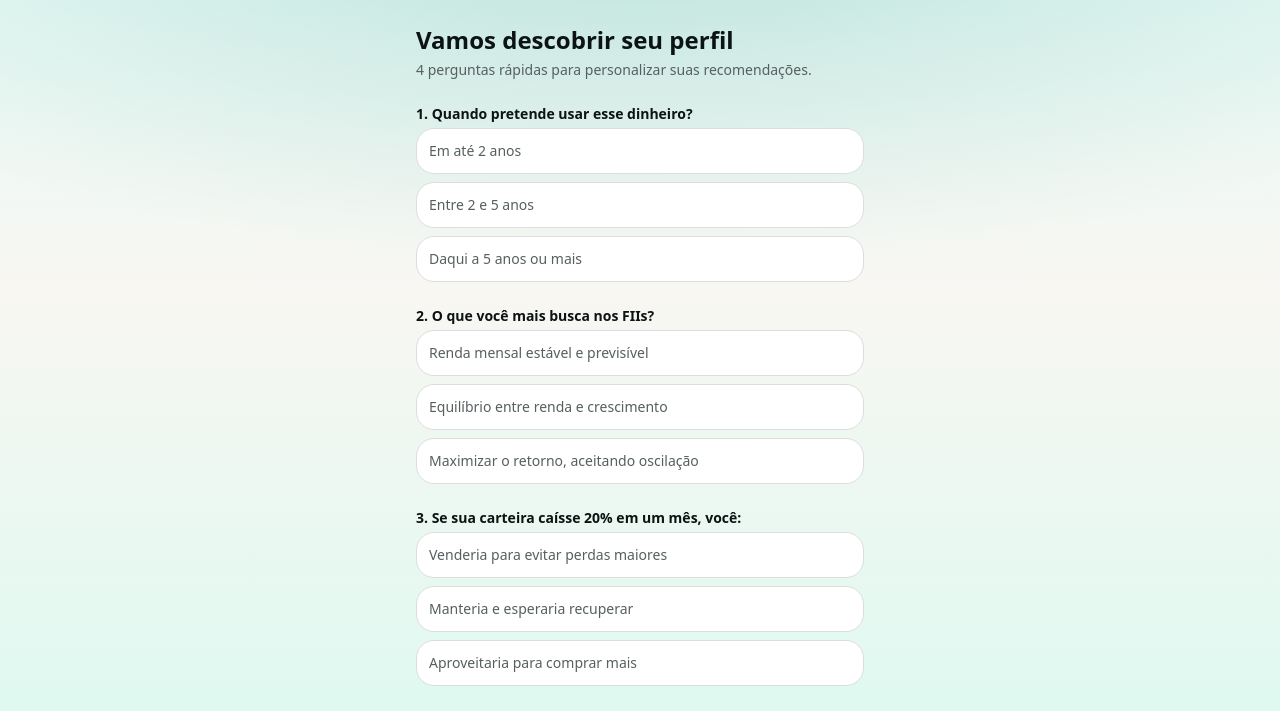
Test: OnboardingPage › classifica como conservador ao escolher as respostas mais cautelosas
Click the button "Em até 2 anos" at (475, 150), box 416,128 -> 864,174
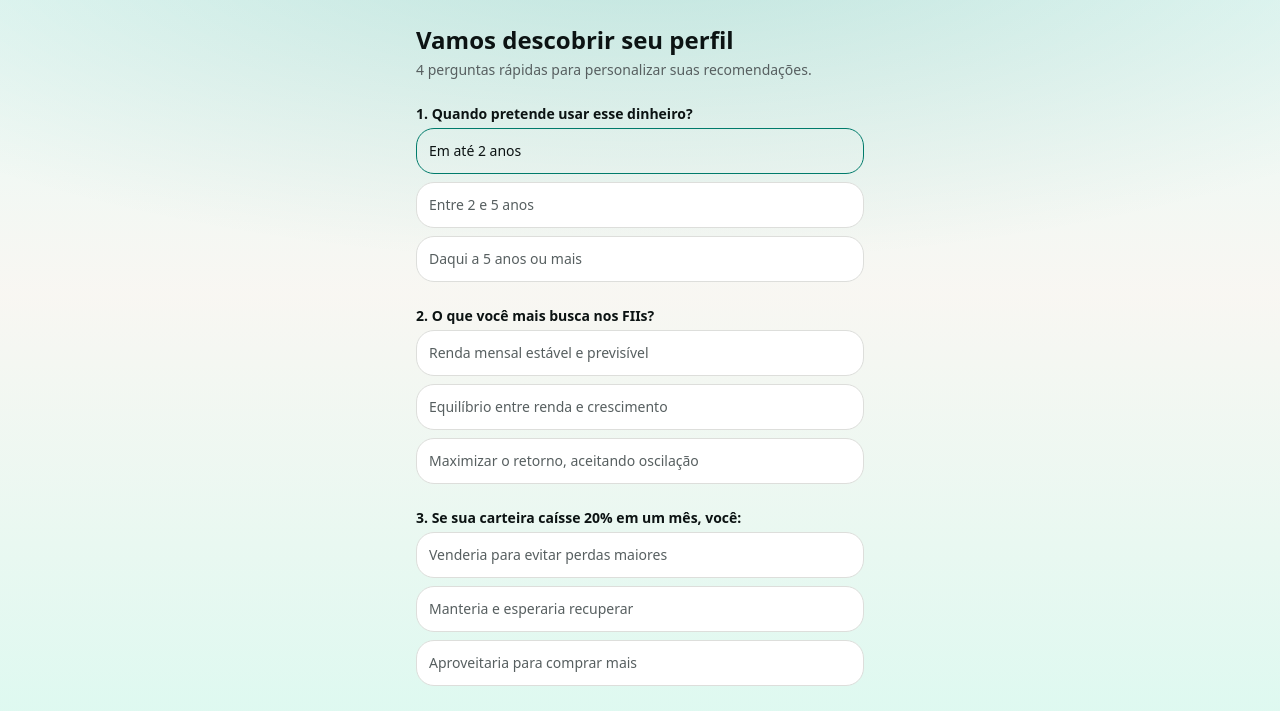
Click the button "Renda mensal estável e previsível" at (640, 353), box 416,330 -> 864,376
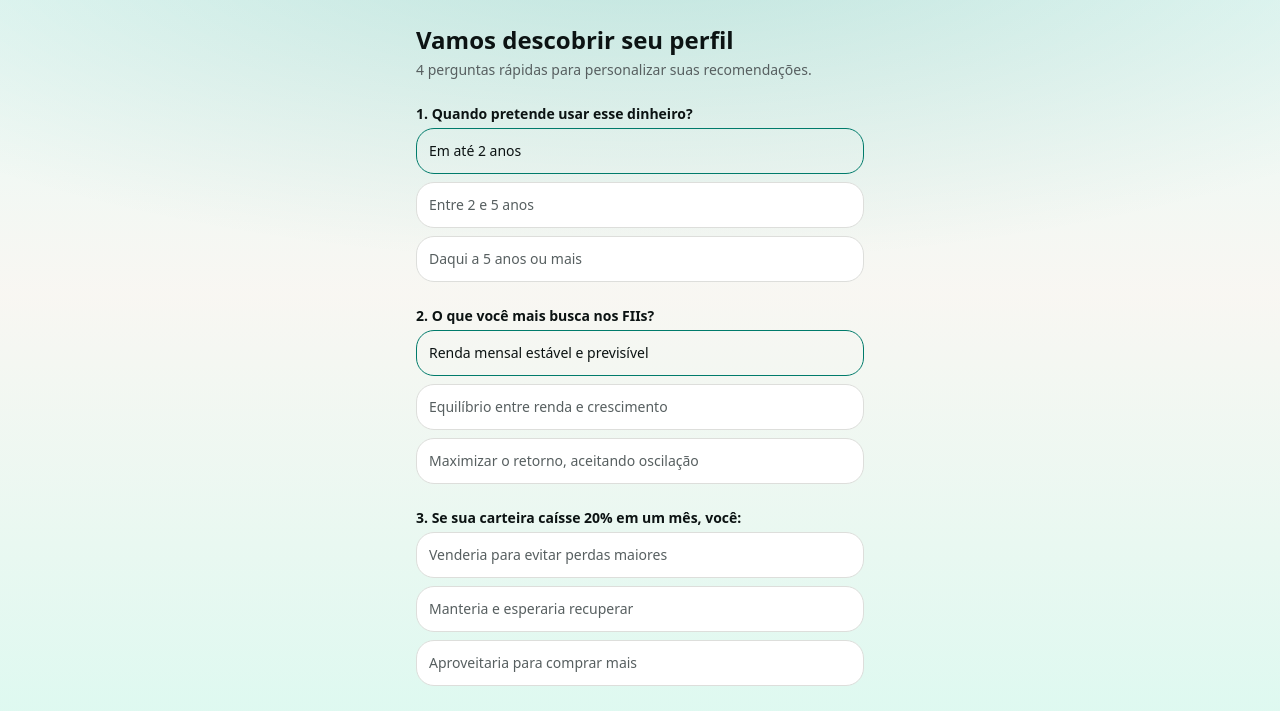
Click the button "Venderia para evitar perdas maiores" at (640, 555), box 416,532 -> 864,578
(page scrolled)
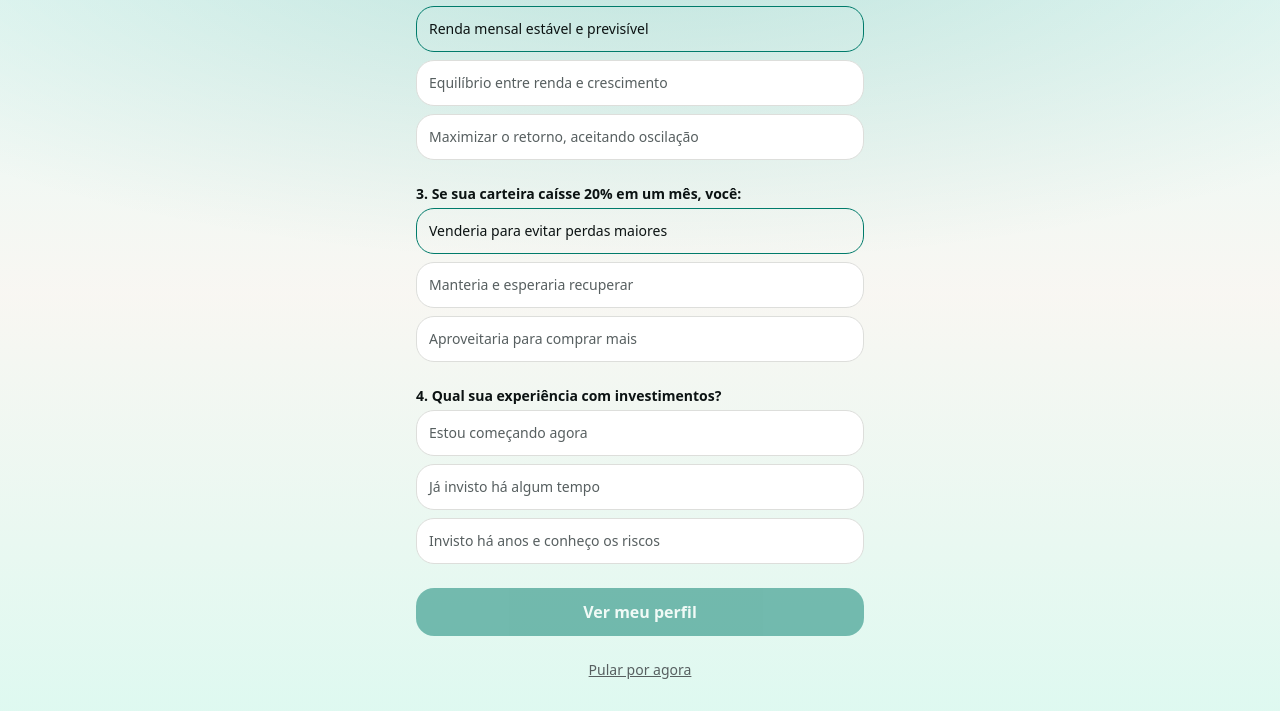
Click the button "Estou começando agora" at (508, 432), box 416,410 -> 864,456
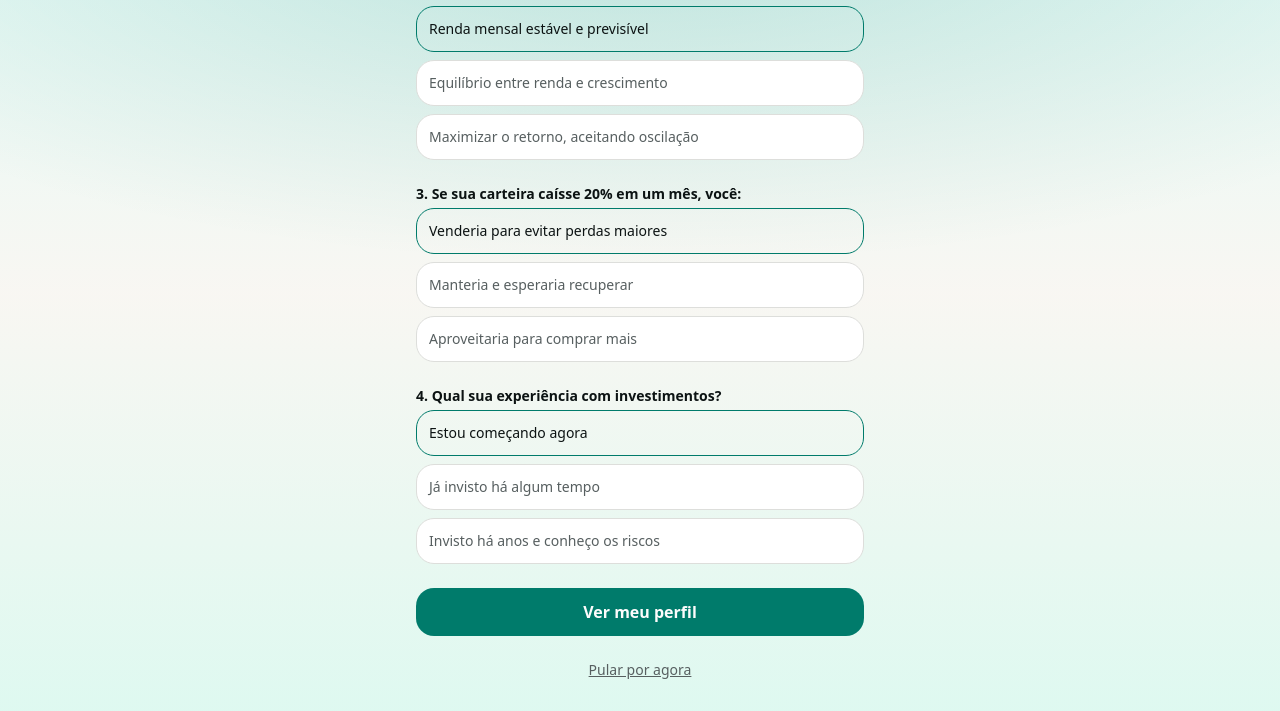
Click the button "Ver meu perfil" at (640, 612), box 416,588 -> 864,636
(page scrolled)
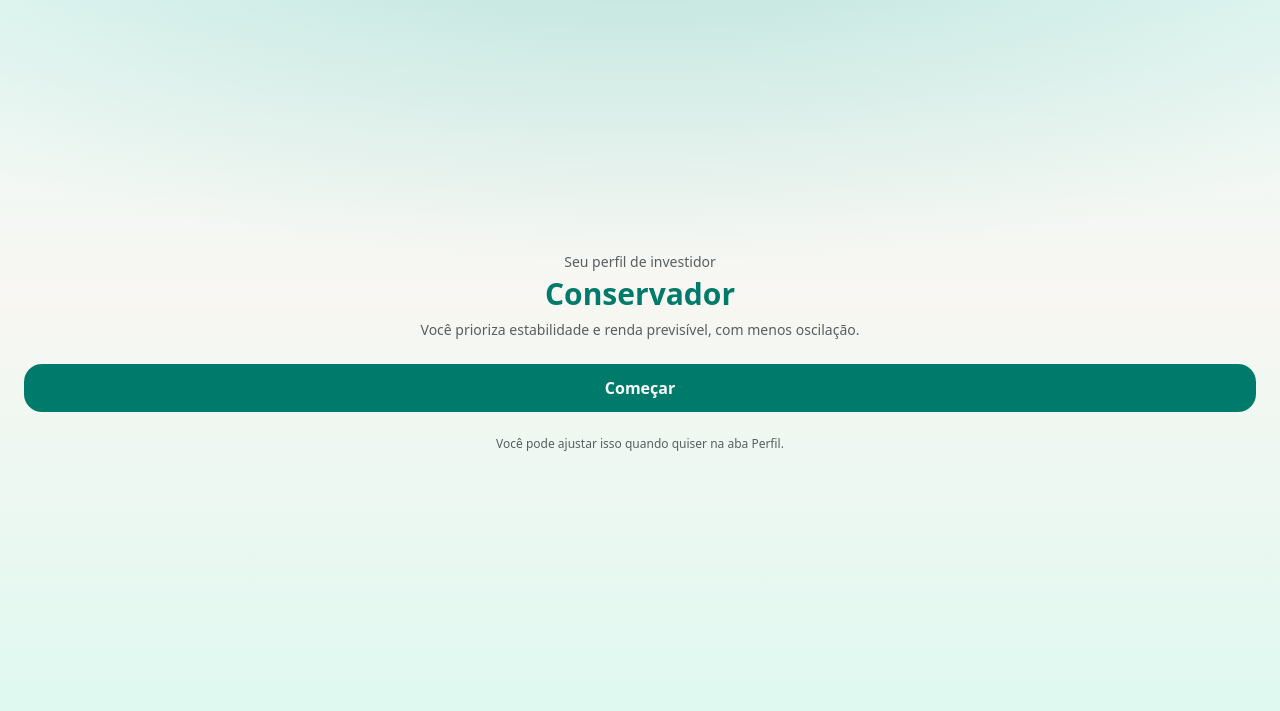
Expected: the heading "Conservador" is shown, 545,273 -> 735,314
